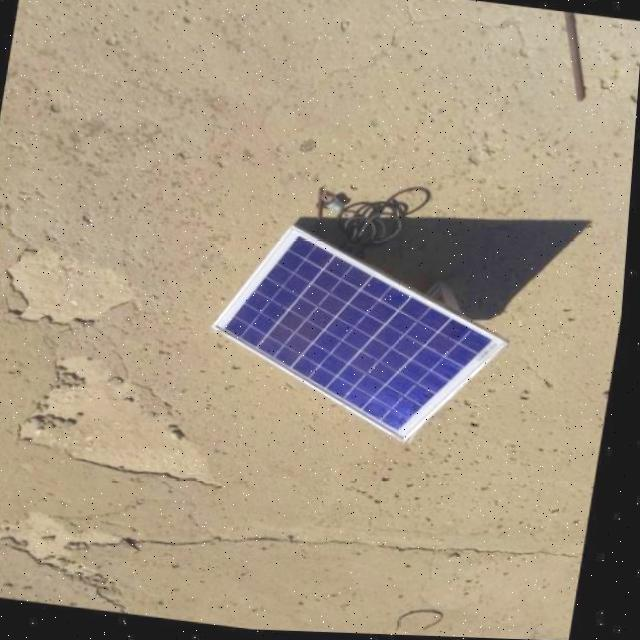Normal Solar Panel: (205, 222, 527, 449)
